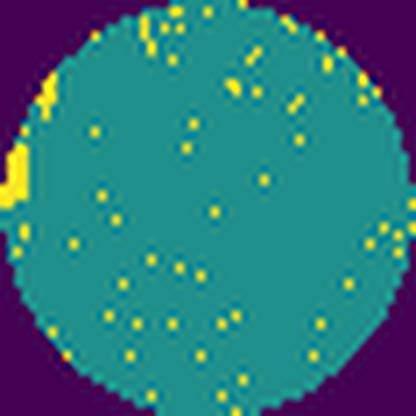Edge-Loc: (1, 137, 40, 207), (33, 74, 61, 130)
